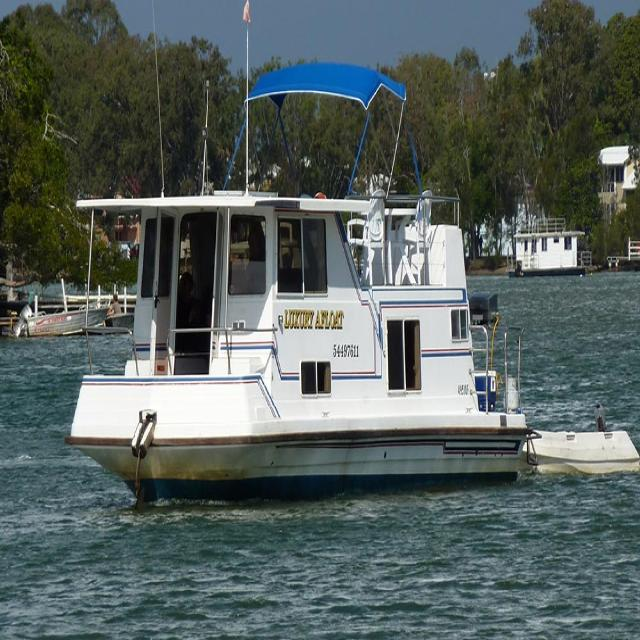houseboat: (69, 68, 520, 484)
